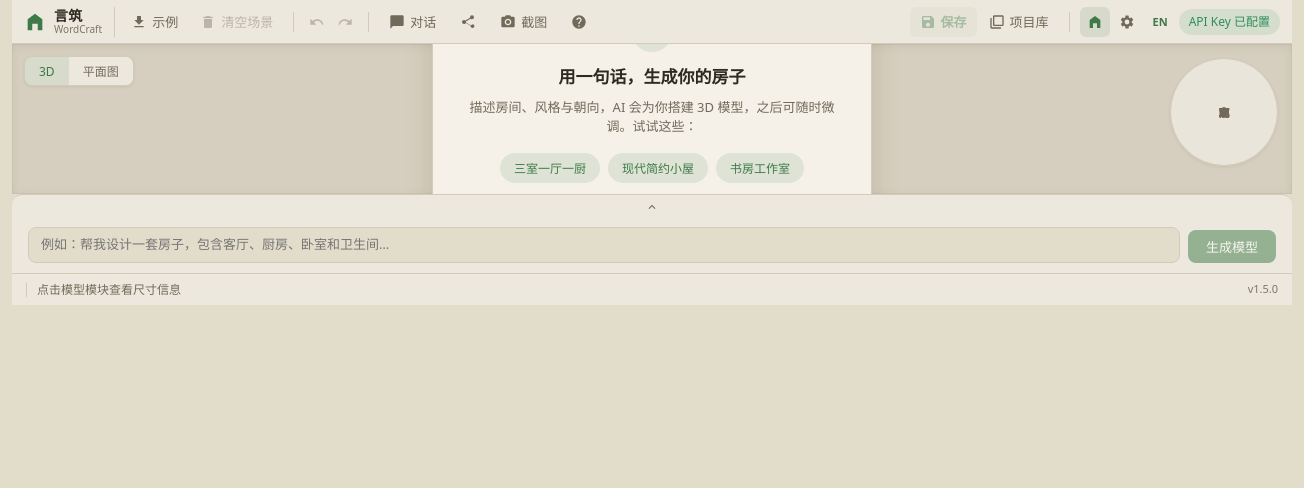
Test case: HomePage 对话交互 › 模型返回业务错误时在对话中展示错误信息
The image size is (1304, 488).
Type "设计一个卧室" into the text box with placeholder "例如：帮我设计一套房子，包含客厅、厨房、卧室和卫生间…".
click(604, 245); type("设计一个卧室")  # box [28,227,1180,263]
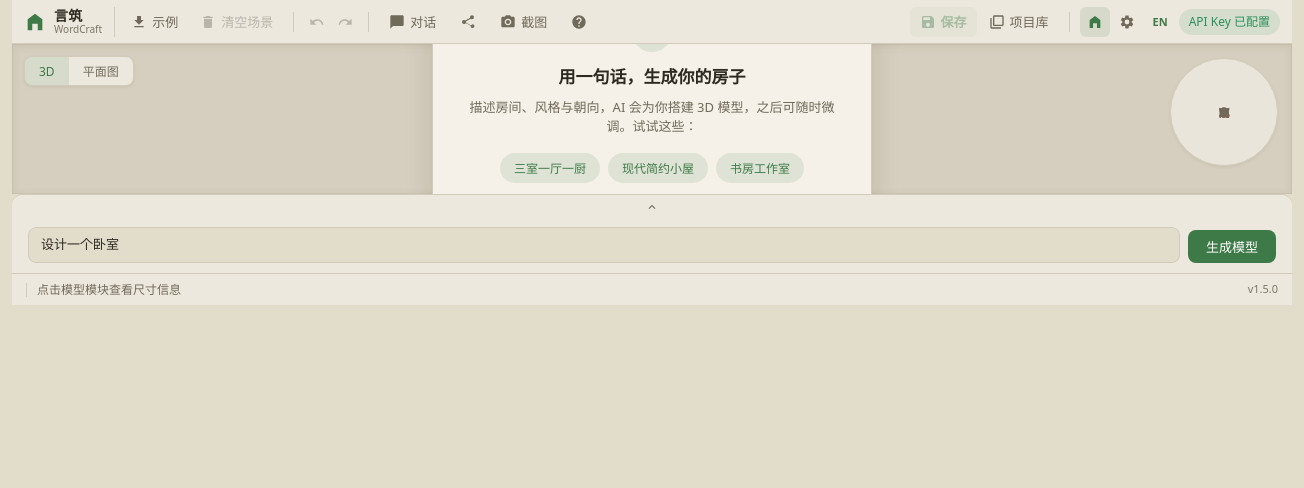
Click the button "生成模型".
click(1232, 246)  # box [1188,230,1276,263]
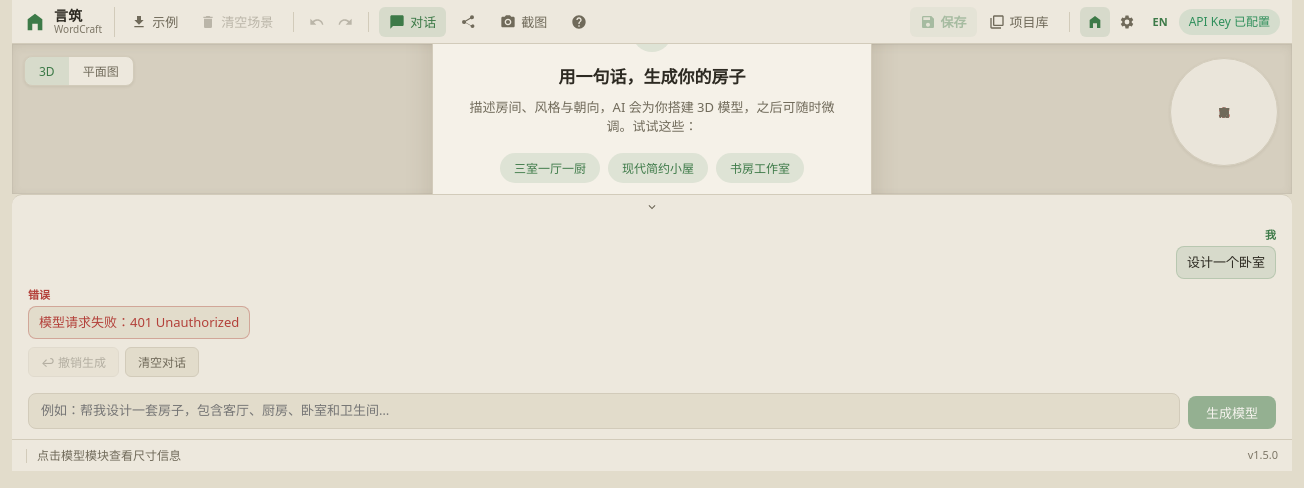
Expected: the text "模型请求失败：401 Unauthorized" is shown, [28,306,250,339]
